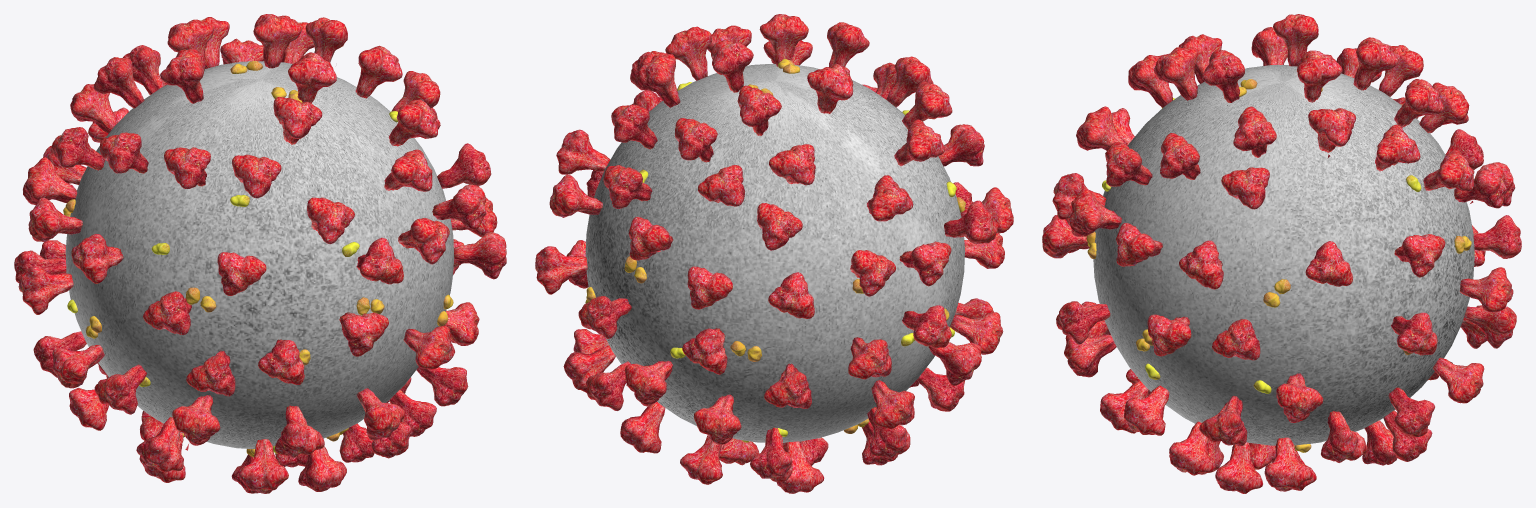
3 renders of one model, left to right at view 1: azimuth 30°, elevation 25°; view 2: azimuth 150°, elevation 25°; view 3: azimuth 270°, elevation 25°, orthographic. The views are drawn at different scales.
Bounding box in the file's own units: 2.45 × 2.48 × 2.48.
Materials: 1 (1 with a texture image).
